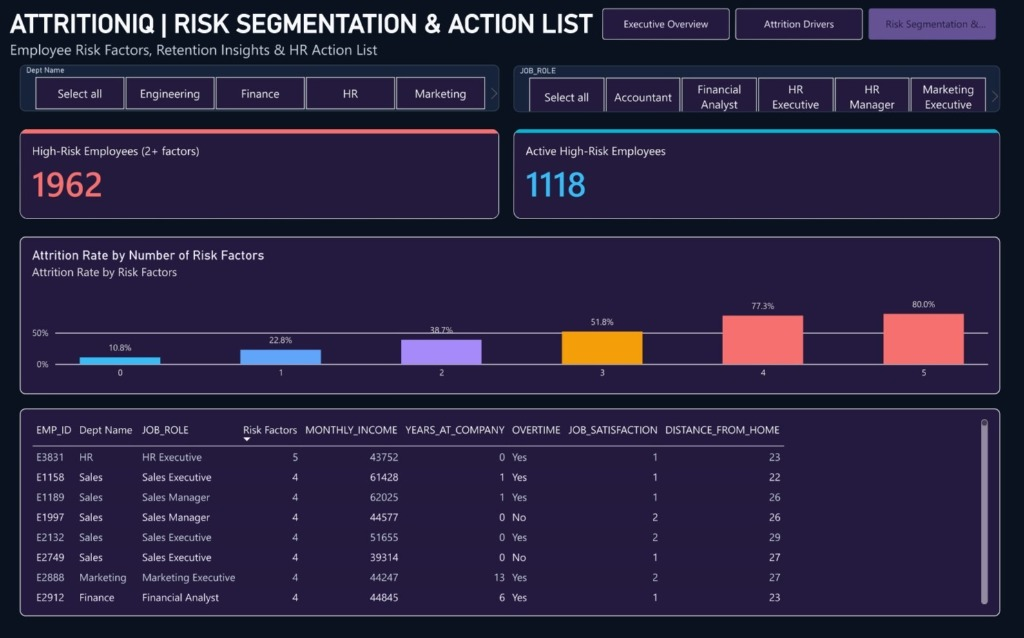

The page's visual inventory and layout, read from the dashboard file:
{"tool":"powerbi","page":{"name":"Risk Segmentation & Action List","canvas":[1440,900],"ordinal":2},"visuals":[{"type":"textbox","title":"ATTRITIONIQ | RISK SEGMENTATION & ACTION LIST","box":[21.3,15.9,1397.8,79.7],"z":0},{"type":"slicer","fields":{"Values":["HR_ATTRITION_FINAL.Dept Name"]},"box":[35,95,670,65],"z":1000},{"type":"slicer","fields":{"Values":["HR_ATTRITION_FINAL.JOB_ROLE"]},"box":[724.6,95.7,680.3,65.6],"z":2000},{"type":"cardVisual","fields":{"Data":["_Measures.Active High-Risk Employees"]},"box":[725,185,680,125],"z":2001},{"type":"cardVisual","fields":{"Data":["_Measures.High-Risk Employees (2+ factors)"]},"box":[35,185,670,125],"z":2002},{"type":"clusteredColumnChart","title":"Attrition Rate by Number of Risk Factors","fields":{"Category":["HR_ATTRITION_FINAL.Risk Factors"],"Y":["_Measures.Attrition Rate"]},"box":[35.4,335,1370,220],"z":2003},{"type":"tableEx","fields":{"Values":["HR_ATTRITION_FINAL.EMP_ID","HR_ATTRITION_FINAL.Dept Name","HR_ATTRITION_FINAL.JOB_ROLE","HR_ATTRITION_FINAL.Risk Factors","HR_ATTRITION_FINAL.MONTHLY_INCOME","HR_ATTRITION_FINAL.YEARS_AT_COMPANY","HR_ATTRITION_FINAL.OVERTIME","HR_ATTRITION_FINAL.JOB_SATISFACTION","HR_ATTRITION_FINAL.DISTANCE_FROM_HOME"]},"box":[35,575,1370,290],"z":2004},{"type":"pageNavigator","box":[848.6,15.7,551.4,44.3],"z":2005}]}

Visuals, with their boxes in screenshot pixels (x1, y1, x2, y2), scaled from the page's 1440x900 canvas onto the 1024x638 screenshot:
"ATTRITIONIQ | RISK SEGMENTATION & ACTION LIST" textbox: [15,11,1009,68]
slicer - HR_ATTRITION_FINAL.Dept Name: [25,67,501,113]
slicer - HR_ATTRITION_FINAL.JOB_ROLE: [515,68,999,114]
cardVisual - _Measures.Active High-Risk Employees: [516,131,999,220]
cardVisual - _Measures.High-Risk Employees (2+ factors): [25,131,501,220]
"Attrition Rate by Number of Risk Factors" clusteredColumnChart: [25,237,999,393]
tableEx - HR_ATTRITION_FINAL.EMP_ID x HR_ATTRITION_FINAL.Dept Name: [25,408,999,613]
pageNavigator: [603,11,996,43]
